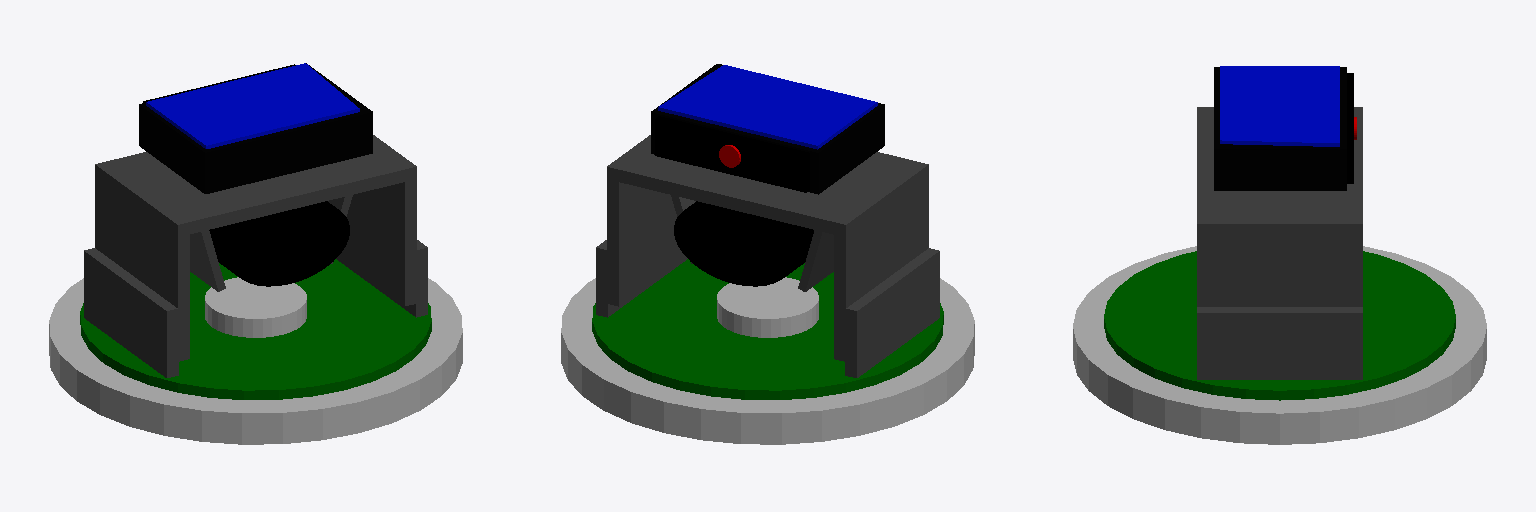
File: tower.obj
3 views of the same model, side by side, from view 1: azimuth 30°, elevation 25°; view 2: azimuth 150°, elevation 25°; view 3: azimuth 270°, elevation 25° (orthographic).
Visible parts, largest first — view 1: Cylinder, Cylinder.001, Cube_Cube.001, Cube.007, Cube.008, Cylinder.002, Cube.001_Cube.000, Cube.004, Cube.002, Cylinder.003, Cube.006, Cube.003; view 2: Cylinder, Cylinder.001, Cube_Cube.001, Cube.008, Cylinder.002, Cube.001_Cube.000, Cube.004, Cube.002, Cube.009, Cylinder.003, Cube.007, Cube.006 (+1 smaller); view 3: Cylinder, Cylinder.001, Cube.003, Cube.002, Cube_Cube.001, Cube.008, Cube.007, Cube.009.
Part boxes in pixels (x1,y1,x2,y2): Cylinder: (49,278,462,444); Cylinder.001: (80,259,431,399); Cube_Cube.001: (95,135,416,236); Cube.007: (139,63,372,193); Cube.008: (146,63,359,148); Cylinder.002: (209,201,349,286); Cube.001_Cube.000: (95,177,189,361); Cube.004: (84,248,178,377); Cube.002: (338,179,416,305); Cylinder.003: (205,277,306,337); Cube.006: (190,230,225,291); Cube.003: (336,240,427,317); Cylinder: (561,278,974,444); Cylinder.001: (592,259,943,399); Cube_Cube.001: (607,135,928,236); Cube.008: (658,65,877,149); Cylinder.002: (674,201,813,286); Cube.001_Cube.000: (834,177,928,361); Cube.004: (845,248,939,377); Cube.002: (607,179,685,306); Cube.009: (655,116,809,192); Cylinder.003: (717,277,818,337); Cube.007: (651,64,884,194); Cube.006: (798,230,833,291); Cylinder: (1073,246,1486,444); Cylinder.001: (1104,251,1455,400); Cube.003: (1197,307,1362,379); Cube.002: (1197,236,1362,306); Cube_Cube.001: (1197,107,1362,235); Cube.008: (1220,66,1339,146); Cube.007: (1214,67,1346,190); Cube.009: (1347,73,1353,183).
Bounding box in the file's own units: 0.06 × 0.0484 × 0.06.